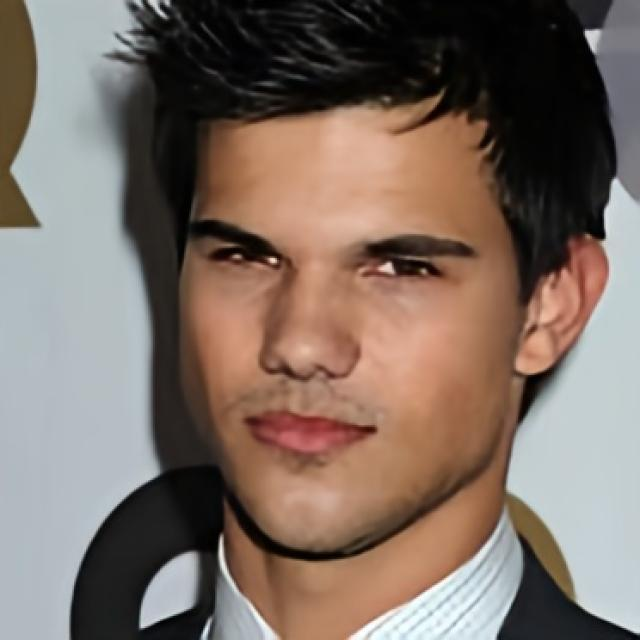content: (178, 100, 520, 548)
